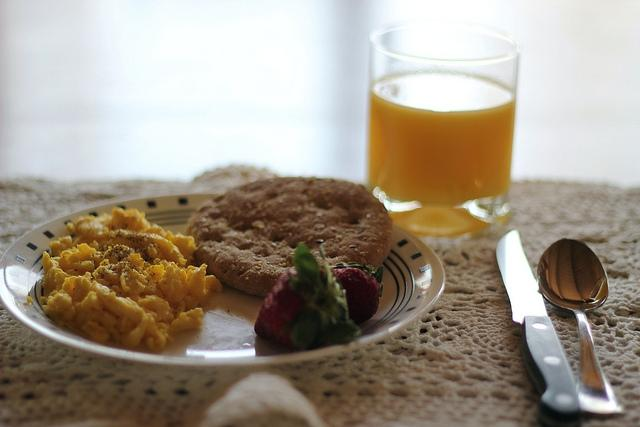strawberry: (254, 244, 360, 350), (329, 260, 384, 326)
